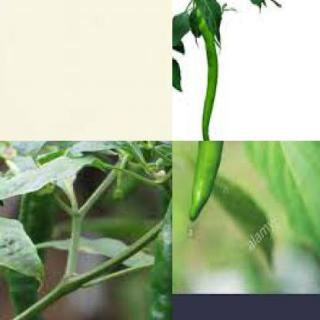green_chilli: (0, 187, 68, 319), (118, 228, 172, 320), (187, 7, 218, 140), (186, 141, 234, 220)
